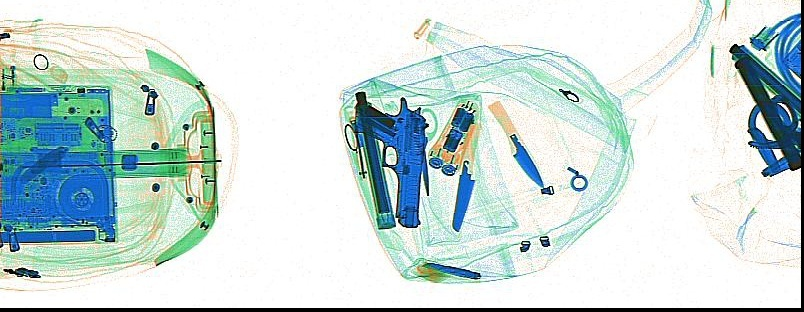handcuffs: (747, 90, 799, 150)
knife: (487, 99, 544, 189), (449, 122, 479, 231), (18, 143, 69, 185), (745, 125, 782, 172), (347, 115, 366, 178), (419, 262, 481, 280), (760, 147, 798, 176)
scissors: (401, 106, 437, 195)
